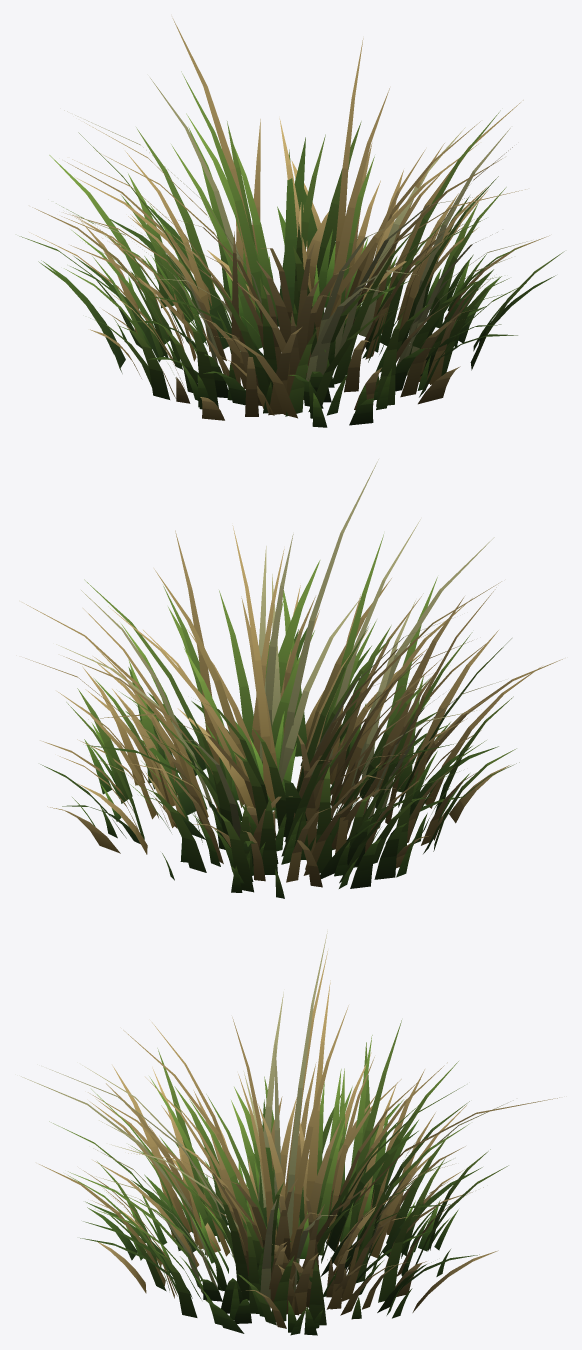
File: grass.glb
3 views of the same model, one above another, from view 1: azimuth 30°, elevation 25°; view 2: azimuth 150°, elevation 25°; view 3: azimuth 270°, elevation 25° (orthographic). The views are drawn at different scales.
Parts seen in each view (by area): view 1: G_meadow_LOD0, G_dune_LOD0, G_dry_LOD0, G_forest_LOD0, G_lawn_LOD0; view 2: G_meadow_LOD0, G_dune_LOD0, G_dry_LOD0, G_forest_LOD0, G_lawn_LOD0; view 3: G_meadow_LOD0, G_dune_LOD0, G_dry_LOD0, G_forest_LOD0, G_lawn_LOD0.
Boxes of the visible parts, left/top/right/bottom form: G_meadow_LOD0: left=19, top=71, right=564, bottom=416; G_dune_LOD0: left=61, top=18, right=531, bottom=384; G_dry_LOD0: left=29, top=88, right=549, bottom=418; G_forest_LOD0: left=38, top=137, right=555, bottom=425; G_lawn_LOD0: left=102, top=229, right=504, bottom=427; G_meadow_LOD0: left=66, top=534, right=519, bottom=892; G_dune_LOD0: left=22, top=459, right=501, bottom=853; G_dry_LOD0: left=40, top=569, right=562, bottom=887; G_forest_LOD0: left=40, top=627, right=509, bottom=888; G_lawn_LOD0: left=72, top=703, right=469, bottom=898; G_meadow_LOD0: left=49, top=1020, right=508, bottom=1325; G_dune_LOD0: left=21, top=931, right=559, bottom=1309; G_dry_LOD0: left=39, top=1052, right=483, bottom=1328; G_forest_LOD0: left=80, top=1099, right=498, bottom=1333; G_lawn_LOD0: left=126, top=1159, right=458, bottom=1335.
Size of what is drawn, in the model's own units: 1.09 by 0.6059 by 1.23.
